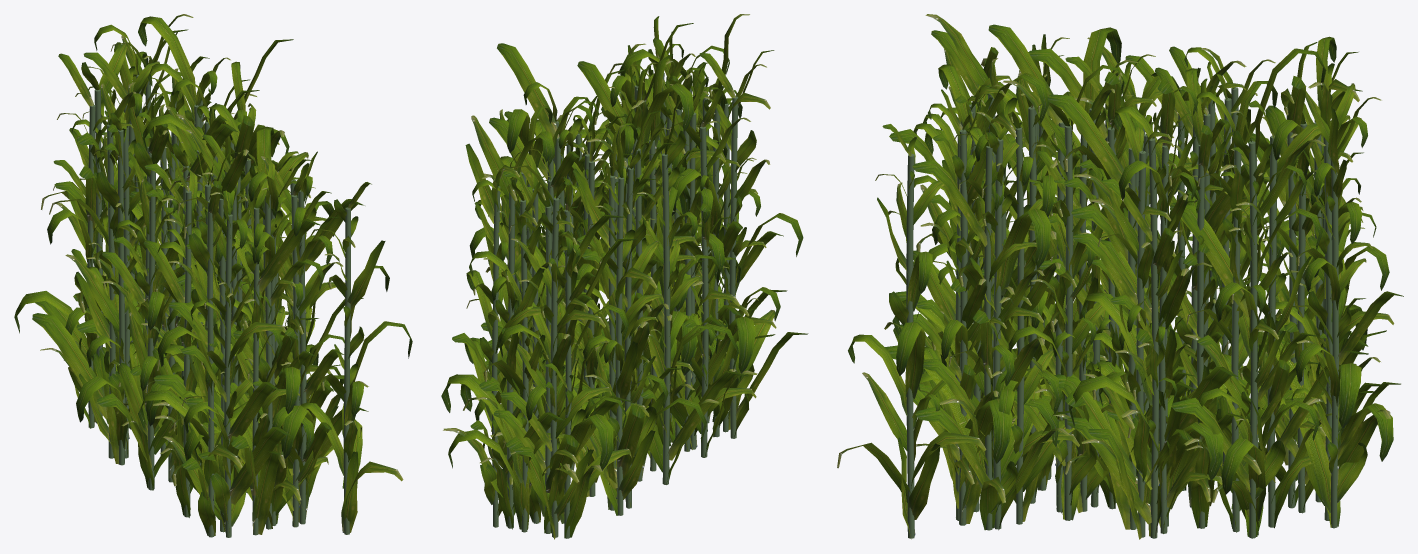
Rendered from milharal3x9_denso2.fbx.
3 renders of one model, left to right at view 1: azimuth 30°, elevation 25°; view 2: azimuth 150°, elevation 25°; view 3: azimuth 270°, elevation 25°, orthographic. The views are drawn at different scales.
Parts seen in each view (by area): view 1: Plantacao2; view 2: Plantacao2; view 3: Plantacao2.
Boxes of the visible parts, x1=… form: Plantacao2: x1=14, y1=14, x2=412, y2=537; Plantacao2: x1=441, y1=14, x2=808, y2=539; Plantacao2: x1=837, y1=14, x2=1403, y2=539.
Size of the model in its own units: 643 by 1080 by 1160.
